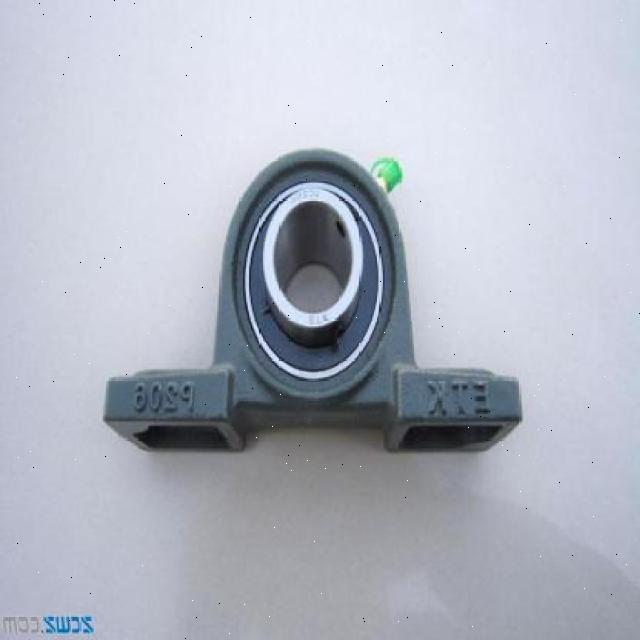Bearing: (228, 156, 402, 392)
